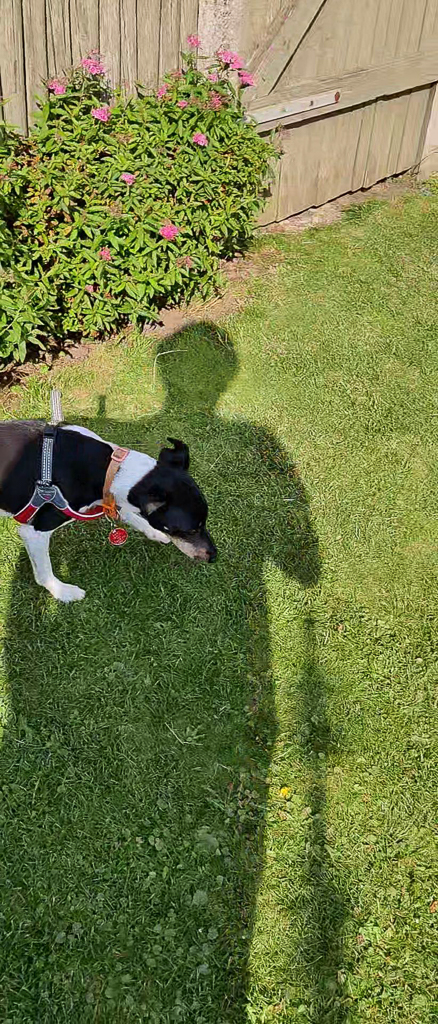Dog: (0, 390, 234, 611)
